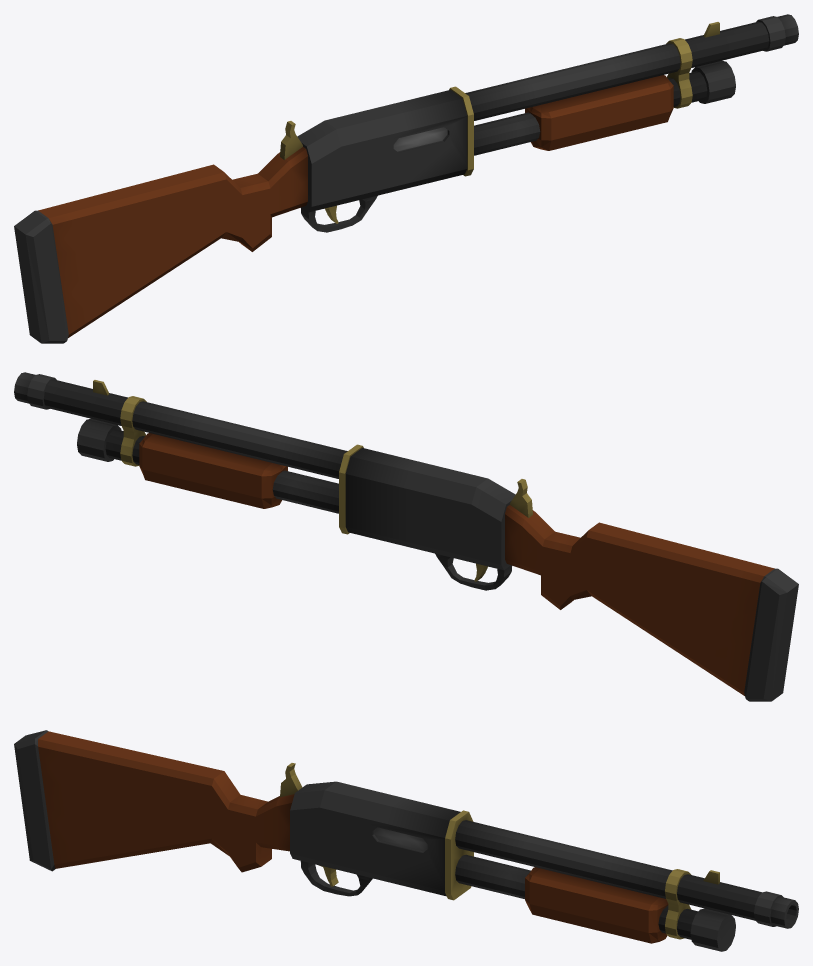
The model's file is v-pump-shotgun-short.glb.
3 views of the same model, one above another, from view 1: azimuth 30°, elevation 25°; view 2: azimuth 150°, elevation 25°; view 3: azimuth 330°, elevation 25° (orthographic).
Visible parts, largest first — view 1: body (×4); view 2: body (×3); view 3: body (×4).
Boxes of the visible parts, x1,y1,x2,y2 form: body (×4): [14, 14, 798, 343]; body (×3): [14, 372, 798, 701]; body (×4): [14, 730, 798, 951].
Bounding box in the file's own units: 0.86 × 0.1698 × 0.0444.
